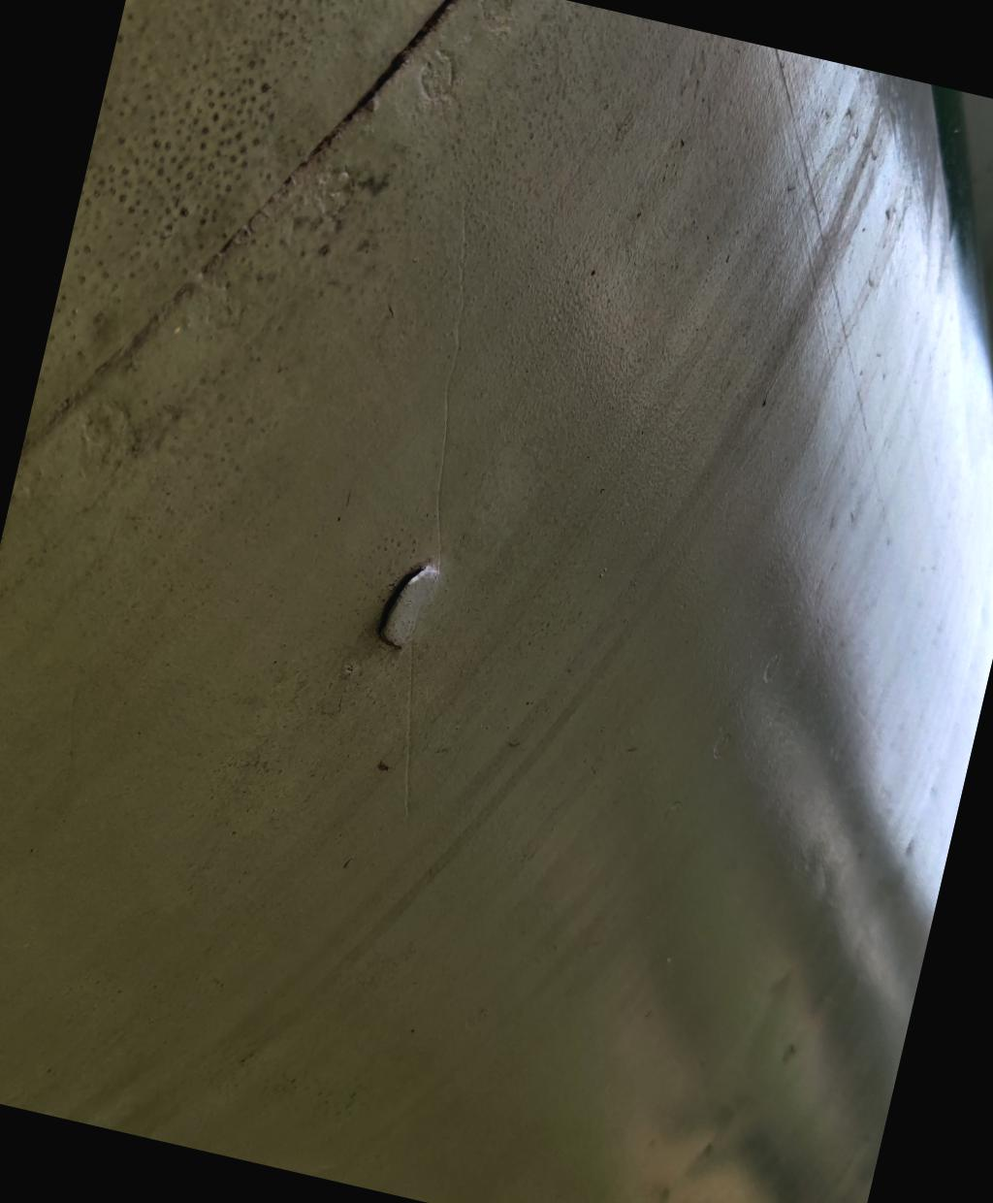crack: (342, 519, 488, 689)
